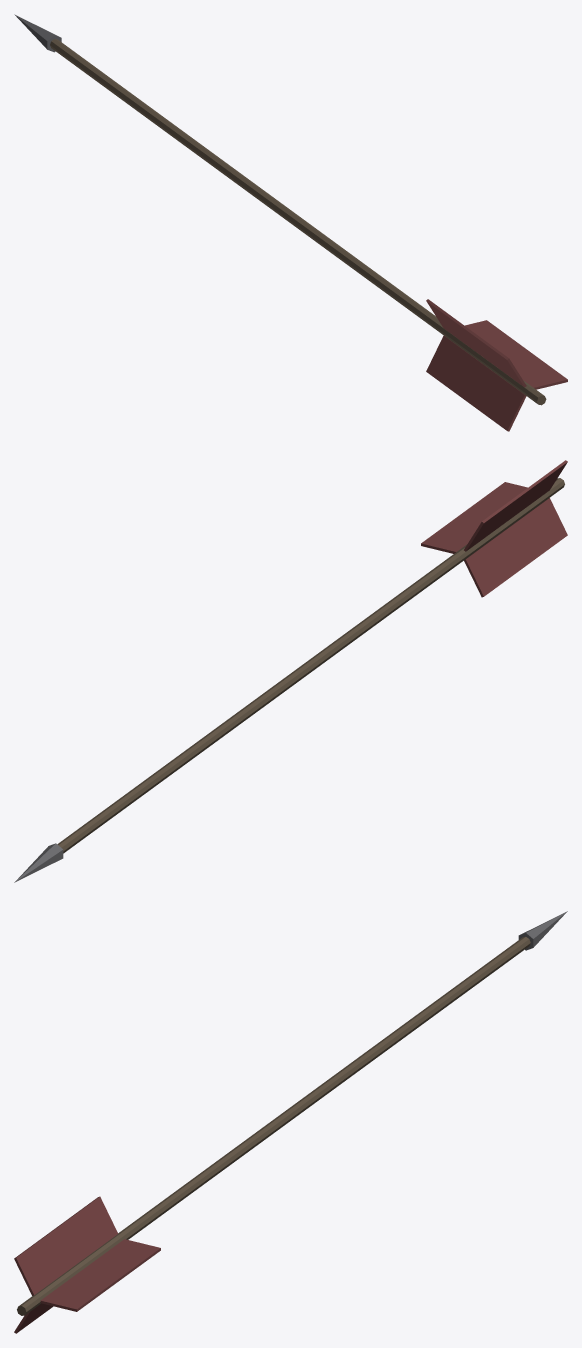
The model's file is arrow.glb.
3 views of the same model, one above another, from view 1: azimuth 30°, elevation 25°; view 2: azimuth 150°, elevation 25°; view 3: azimuth 330°, elevation 25° (orthographic). The views are drawn at different scales.
Visible parts, largest first — view 1: arrow; view 2: arrow; view 3: arrow.
Part boxes in pixels (<box>): arrow: <box>14,14,567,431</box>; arrow: <box>14,460,567,882</box>; arrow: <box>14,911,567,1333</box>.
Size of the model in its own units: 0.0519 by 0.0599 by 0.78.
